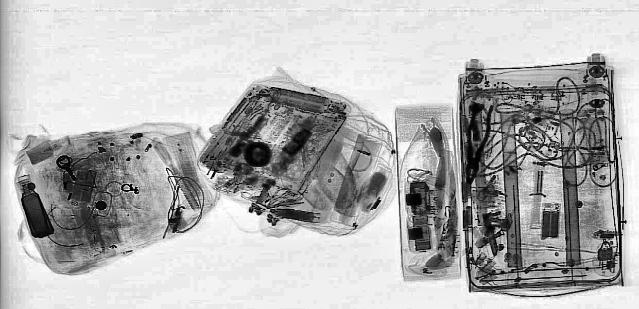Pliers: (456, 103, 496, 185)
